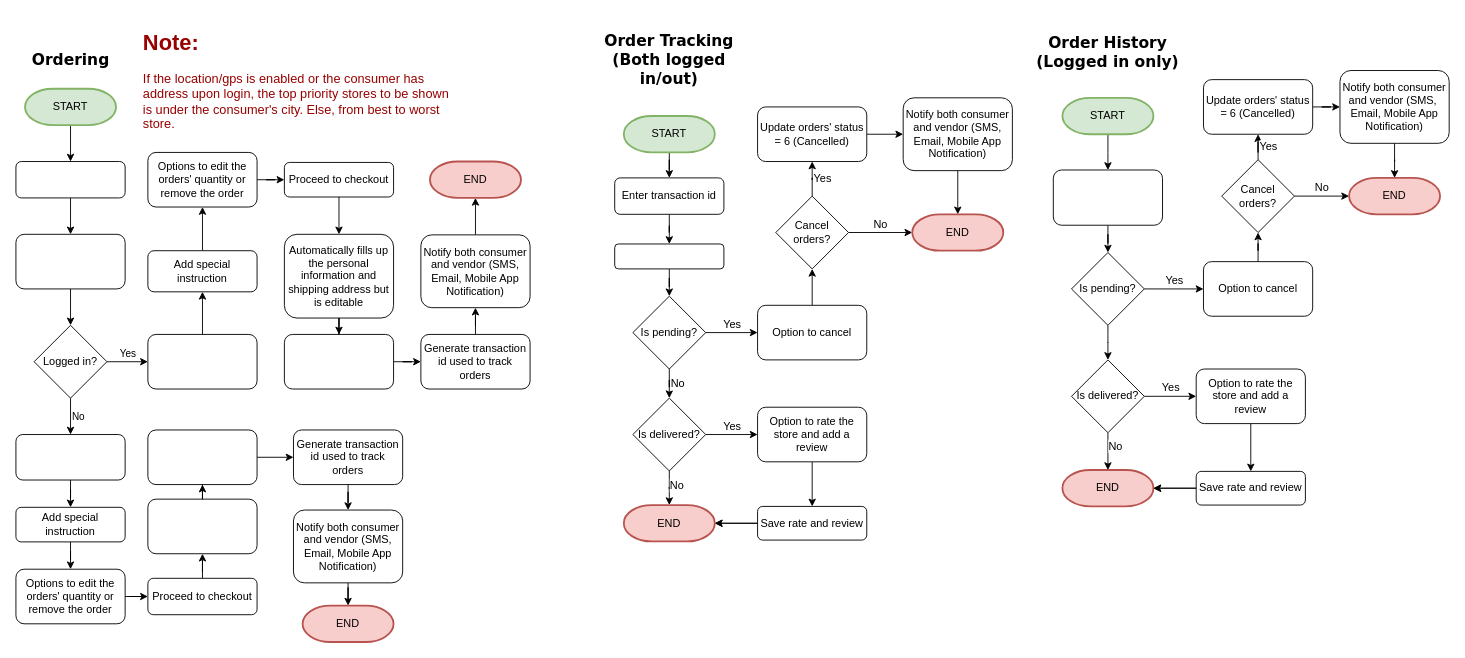
Some shapes in this 1465 by 658 pixel diagram are drawn without their labels. The shapes that lost their labels are listed below. From the top down, each one's centre as x and y in pixels, then its label:
(x=70, y=179): Search for store
(x=1107, y=197): Show orders (Search and filter by status options)
(x=70, y=261): Order food. Modify the quantity of menu to be ordered
(x=669, y=256): Show orders
(x=202, y=361): Save orders to database with status = 1 (Cart)
(x=338, y=361): Update orders' status = 2 (Pending)
(x=70, y=457): Save orders to local storage
(x=202, y=457): Save orders to database with status = 2 (Pending)
(x=202, y=526): Fill up the personal information and shipping address
